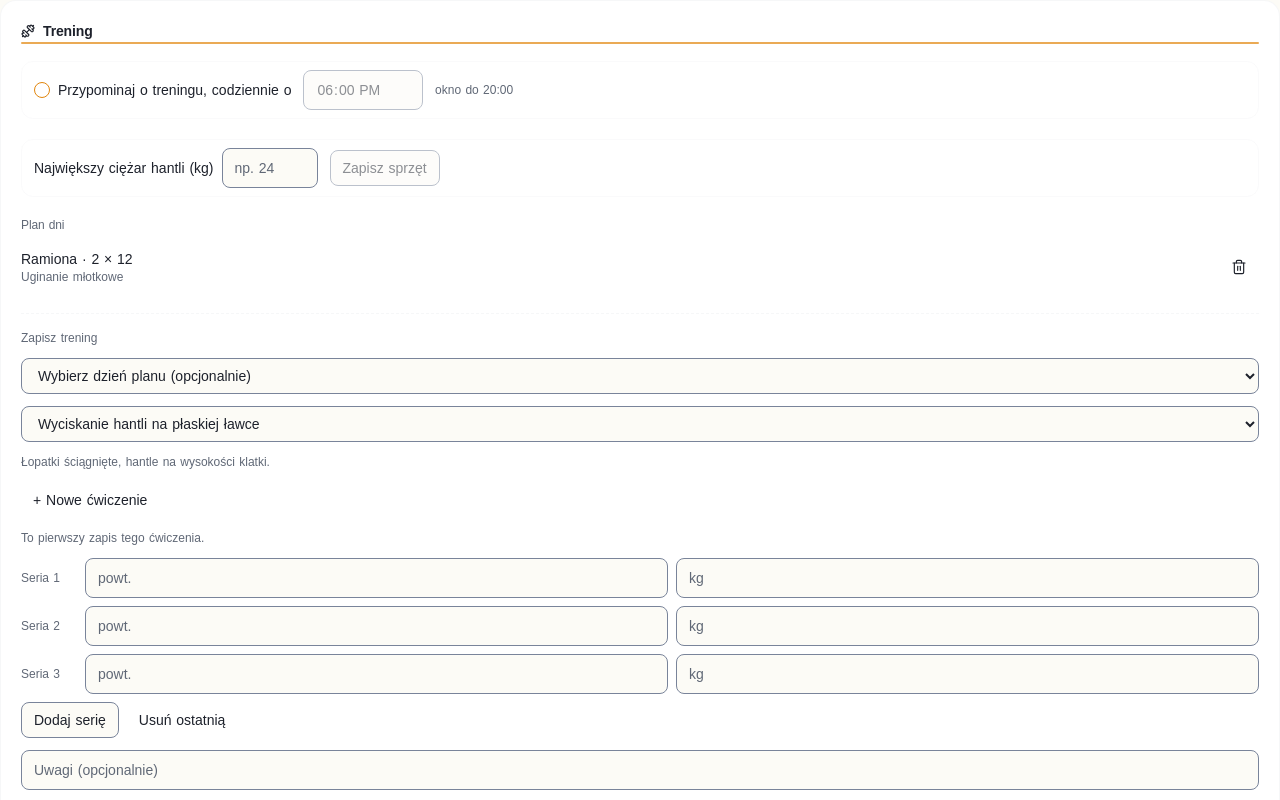
Test: TrainingSection › wybór dnia planu ustawia ćwiczenie i liczbę serii
Select "Ramiona · 2 × 12" in the 1st dropdown named "Dzień planu" at (640, 376), box [21, 358, 1259, 394]
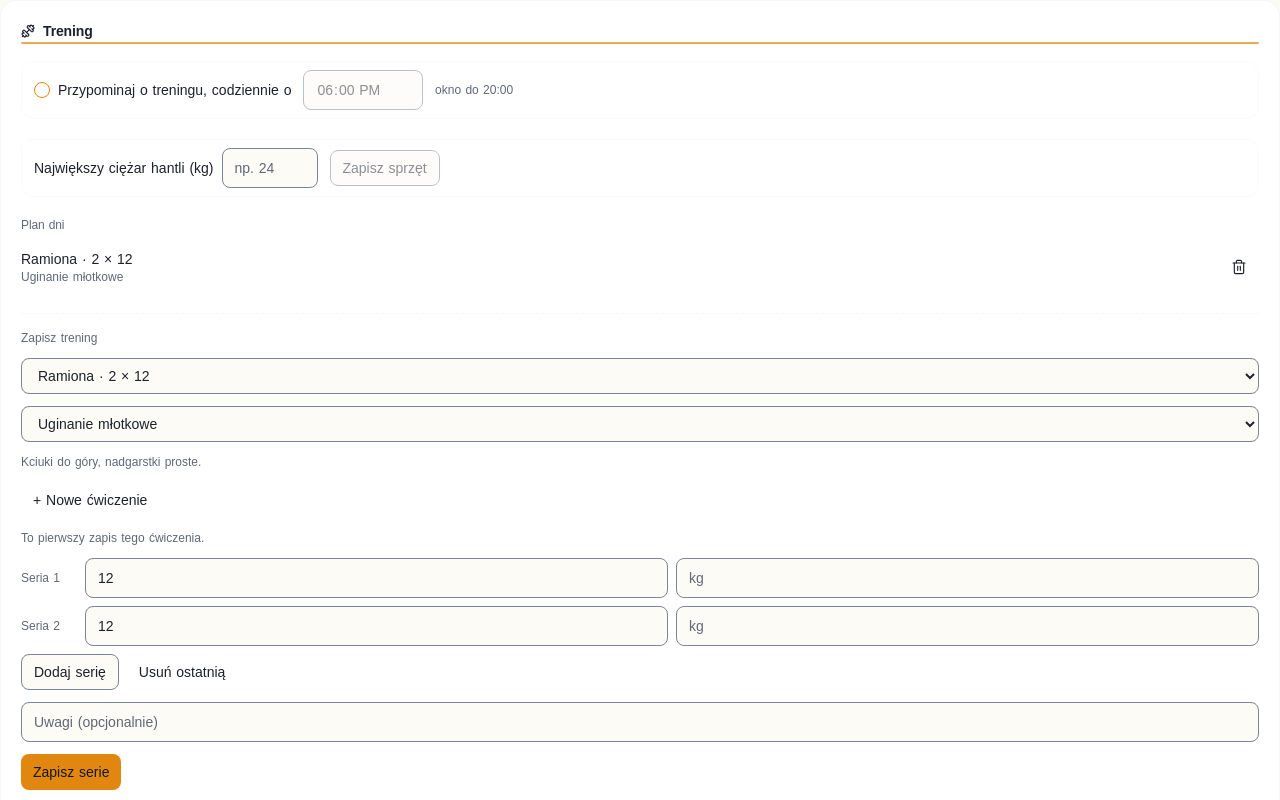
Check: the 2nd dropdown named "Ćwiczenie" shows "Uginanie młotkowe", box [21, 406, 1259, 442]
Check: the field named "Powtórki, seria 2" holds "12", box [85, 606, 668, 646]
